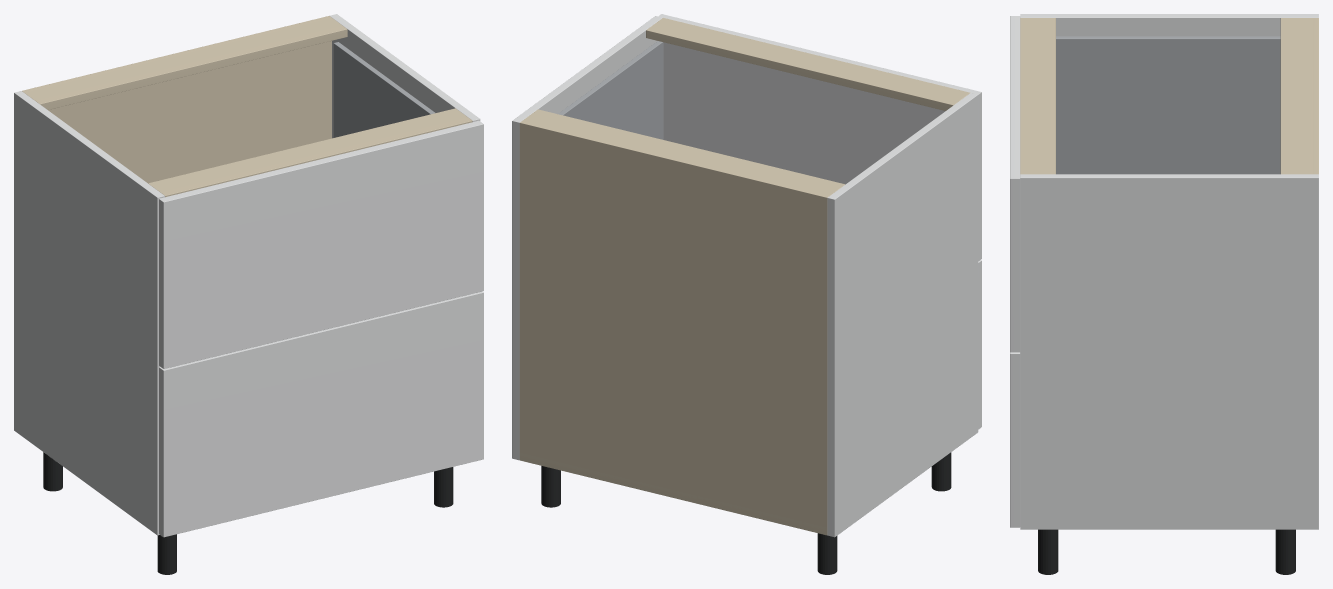
Rendered from oppein-ply-pgw-2db30.glb.
3 renders of one model, left to right at view 1: azimuth 30°, elevation 25°; view 2: azimuth 150°, elevation 25°; view 3: azimuth 270°, elevation 25°, orthographic. The views are drawn at different scales.
Visible parts, largest first — view 1: Drawer front.001, Drawer front, Cabinet side, Cabinet back, Top support rail, Top support rail.001, Drawer side.003, Cabinet side.001, Adjustable foot.001, Adjustable foot.003, Adjustable foot; view 2: Cabinet back, Cabinet side, Drawer front.001, Top support rail.001, Cabinet side.001, Drawer side.003, Top support rail, Cabinet bottom, Adjustable foot, Adjustable foot.002, Drawer front, Adjustable foot.001; view 3: Cabinet side.001, Drawer side.002, Top support rail.001, Cabinet side, Top support rail, Drawer front.001, Drawer front, Adjustable foot.003, Adjustable foot.002, Cabinet back.
Part boxes in pixels (bbox=[...]): Drawer front.001: bbox=[159, 120, 483, 368]; Drawer front: bbox=[159, 291, 483, 537]; Cabinet side: bbox=[14, 91, 164, 535]; Cabinet back: bbox=[22, 16, 331, 183]; Top support rail: bbox=[23, 17, 347, 109]; Top support rail.001: bbox=[148, 108, 472, 197]; Drawer side.003: bbox=[333, 42, 435, 137]; Cabinet side.001: bbox=[329, 14, 480, 138]; Adjustable foot.001: bbox=[157, 534, 176, 574]; Adjustable foot.003: bbox=[434, 467, 453, 507]; Adjustable foot: bbox=[43, 452, 62, 491]; Cabinet back: bbox=[519, 120, 829, 534]; Cabinet side: bbox=[827, 93, 978, 537]; Drawer front.001: bbox=[658, 14, 981, 260]; Top support rail.001: bbox=[646, 18, 970, 110]; Cabinet side.001: bbox=[512, 16, 662, 460]; Drawer side.003: bbox=[558, 41, 663, 139]; Top support rail: bbox=[523, 109, 844, 195]; Cabinet bottom: bbox=[520, 453, 826, 535]; Adjustable foot: bbox=[817, 533, 837, 574]; Adjustable foot.002: bbox=[541, 466, 560, 507]; Drawer front: bbox=[978, 260, 981, 429]; Adjustable foot.001: bbox=[931, 452, 951, 491]; Cabinet side.001: bbox=[1020, 174, 1318, 529]; Drawer side.002: bbox=[1056, 36, 1280, 174]; Top support rail.001: bbox=[1020, 18, 1055, 174]; Cabinet side: bbox=[1020, 14, 1318, 36]; Top support rail: bbox=[1280, 18, 1315, 174]; Drawer front.001: bbox=[1010, 16, 1020, 352]; Drawer front: bbox=[1010, 352, 1020, 527]; Adjustable foot.003: bbox=[1038, 529, 1058, 574]; Adjustable foot.002: bbox=[1275, 529, 1295, 574]; Cabinet back: bbox=[1313, 18, 1318, 174].
Size of the model in its own units: 0.762 by 0.8763 by 0.6064.
